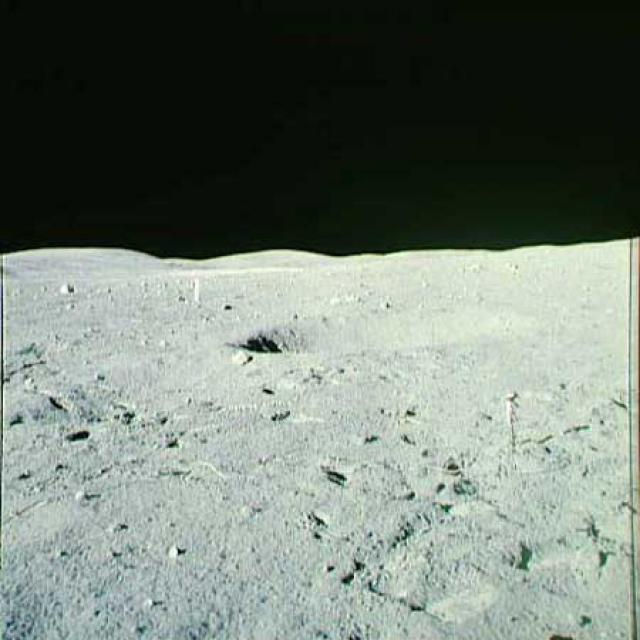crater: (221, 289, 537, 374)
